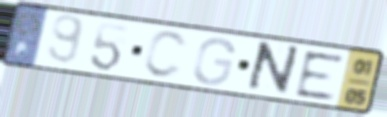5: (88, 20, 132, 73)
9: (46, 13, 87, 70)
C: (141, 29, 190, 81)
E: (293, 49, 347, 102)
G: (191, 35, 238, 87)
N: (242, 39, 303, 98)
